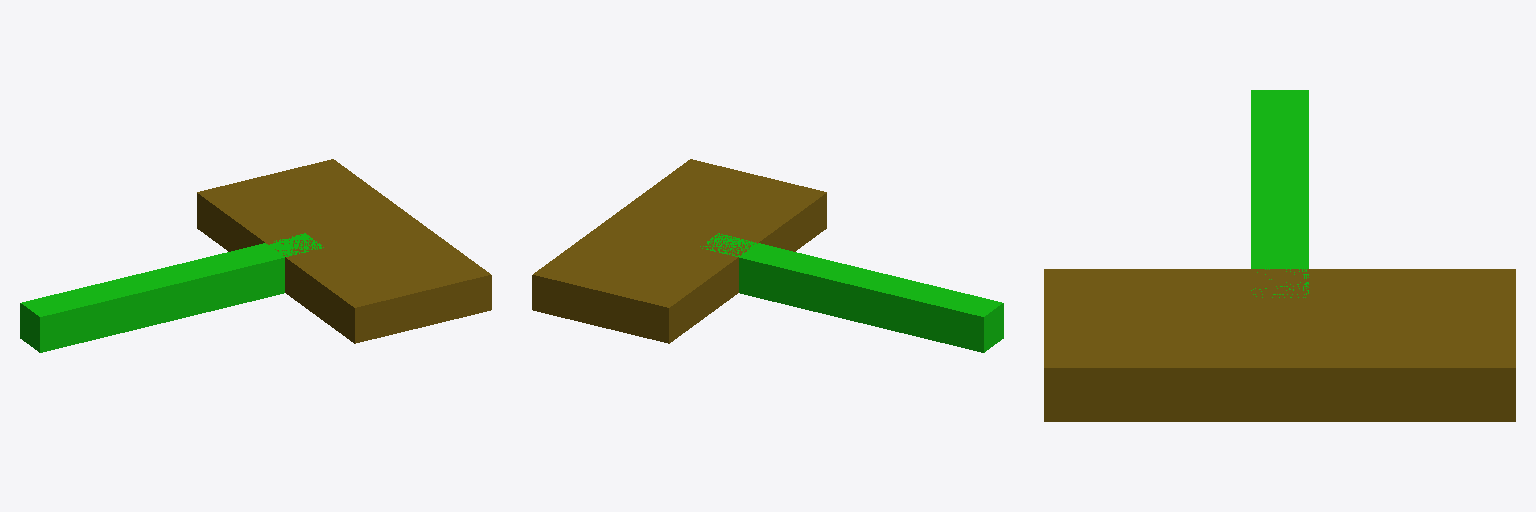
The robot description file, URDF, robot "cube_gripper":
<?xml version="1.0"?>
<robot name="cube_gripper">
  <link name="world"/>
  <joint name="txj" type="prismatic">
    <limit lower="-2.0" upper="2.0"/>
    <origin rpy="0 0 0" xyz="0 0 0"/>
    <axis xyz="1 0 0"/>
    <parent link="world"/>
    <child link="ty"/>
  </joint>
  <link name="ty"/>
  <joint name="tyj" type="prismatic">
    <limit lower="-2.0" upper="2.0"/>
    <axis xyz="0 1 0"/>
    <parent link="ty"/>
    <child link="tz"/>
  </joint>
  <link name="tz"/>
  <joint name="tzj" type="prismatic">
    <limit lower="0" upper="2.0"/>
    <axis xyz="0 0 1"/>
    <parent link="tz"/>
    <child link="rx"/>
  </joint>
  <link name="rx"/>
    <joint name="rxj" type="continuous">
    <axis xyz="1 0 0"/>
    <parent link="rx"/>
    <child link="ry"/>
  </joint>
  <link name="ry"/>
  <joint name="ryj" type="continuous">
    <axis xyz="0 1 0"/>
    <parent link="ry"/>
    <child link="rz"/>
  </joint>
  <link name="rz"/>
  <joint name="rzj" type="continuous">
    <axis xyz="0 0 1"/>
    <parent link="rz"/>
    <child link="visual_link"/>
  </joint>
  <link name="visual_link">
    <visual>
      <origin xyz="0 0 0" rpy="0 0 0" />
      <geometry>
        <box size="0.25 0.03 0.03" />
      </geometry>
      <material name="blue">
        <color rgba="0.1 0.8 0.1 0.3" />
      </material>
    </visual>
    <collision>
      <geometry>
        <box size="0.25 0.03 0.03" />
      </geometry>
    </collision>
   </link>
  <joint name="ee" type="fixed">
    <origin xyz="0.15 0 0" rpy="0 0 0" />
    <parent link="visual_link"/>
    <child link="eef_link"/>
    <axis xyz="0 0 1"/>
  </joint>
  <link name="eef_link">
    <visual>
      <geometry>
        <box size="0.12 0.24 0.03" />
      </geometry>
       <material name="brown">
        <color rgba="0.5 0.4 0.1 0.3" />
      </material>
    </visual>
    <collision>
      <geometry>
        <box size="0.12 0.24 0.03" />
      </geometry>
    </collision>

  </link>

</robot>

--- Facts derived from the render (not from the file) ---
The picture shows the robot from 3 angles, left to right: view 1: azimuth 30°, elevation 25°; view 2: azimuth 150°, elevation 25°; view 3: azimuth 270°, elevation 25°; orthographic projection.
Model cube_gripper with 8 links and 7 joints (3 continuous, 3 prismatic, 1 fixed), rooted at world, posed all joints at 0.
Visible links, largest first — view 1: eef_link, visual_link; view 2: eef_link, visual_link; view 3: eef_link, visual_link.
Link boxes in pixels (x1=…): eef_link: x1=197, y1=159, x2=491, y2=343; visual_link: x1=20, y1=233, x2=323, y2=352; eef_link: x1=532, y1=159, x2=826, y2=343; visual_link: x1=700, y1=233, x2=1003, y2=352; eef_link: x1=1044, y1=269, x2=1515, y2=421; visual_link: x1=1251, y1=90, x2=1308, y2=297.
Bounding box of the posed robot: 0.335 × 0.24 × 0.03 m (x, y, z).
Geometry: primitives only (box / cylinder / sphere), no mesh files.
